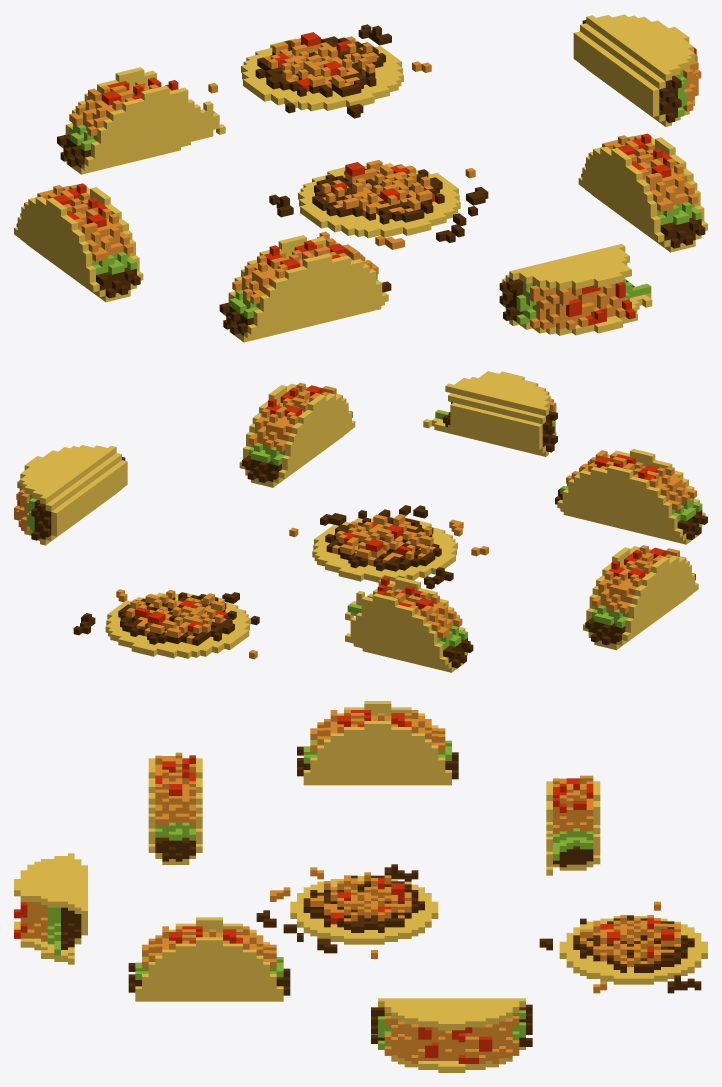
The model's file is tacos_inner.obj.
3 renders of one model, top to bottom at view 1: azimuth 30°, elevation 25°; view 2: azimuth 150°, elevation 25°; view 3: azimuth 270°, elevation 25°, orthographic. The views are drawn at different scales.
Visible parts, largest first — view 1: tacos; view 2: tacos; view 3: tacos.
Boxes of the visible parts, x1,y1,x2,y2 form: tacos: [14, 14, 707, 342]; tacos: [14, 371, 707, 672]; tacos: [14, 701, 707, 1072].
Bounding box in the file's own units: 107 × 11 × 103.
